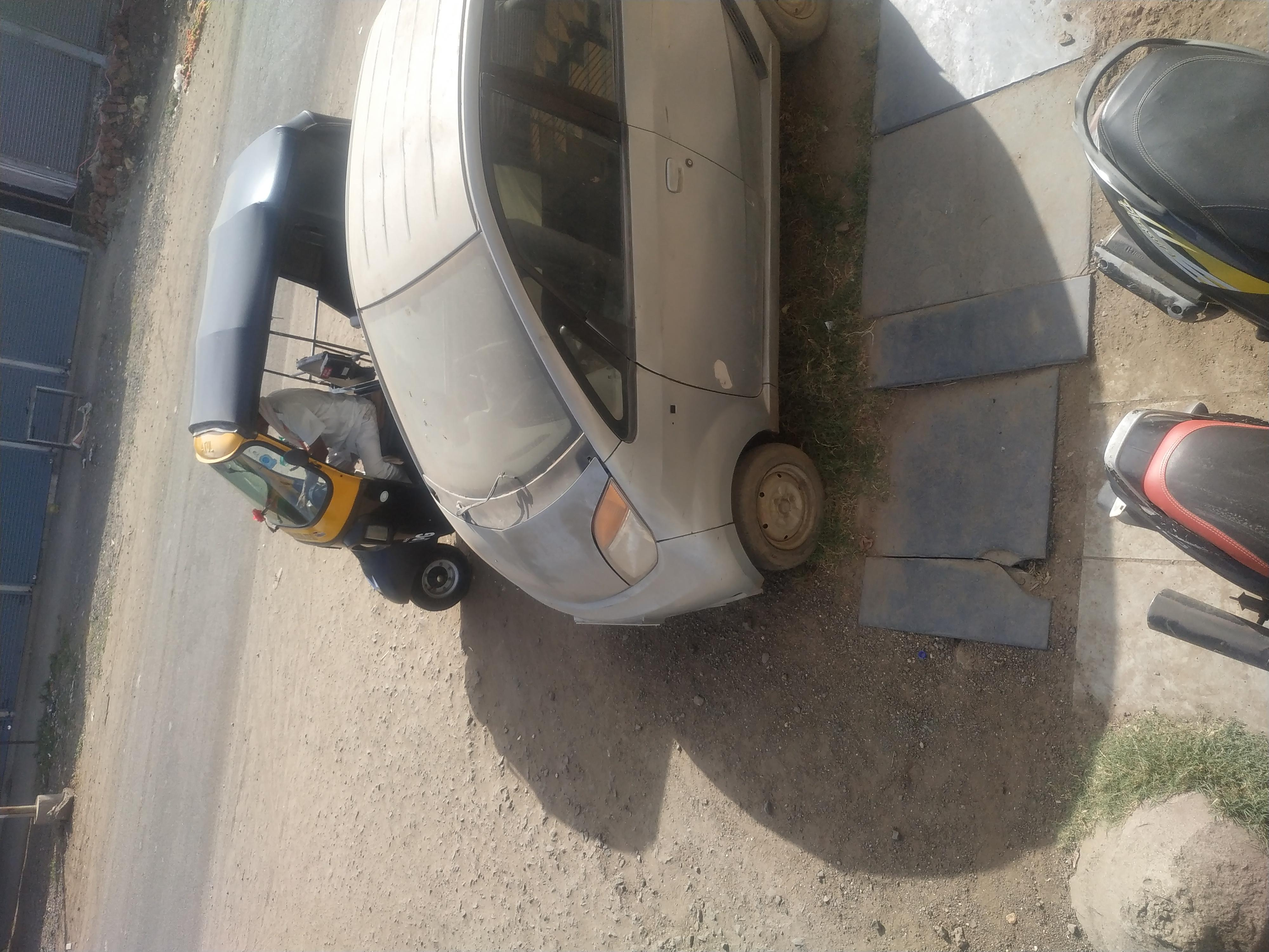Auto: (427, 123, 1148, 380)
